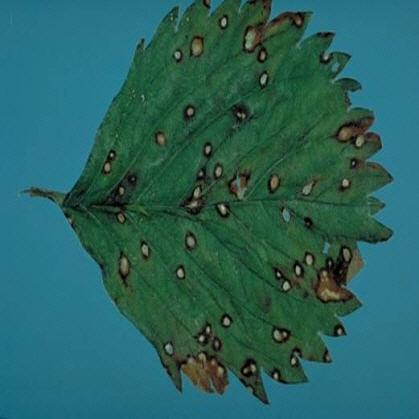Leaf Spot: (56, 0, 395, 406)
